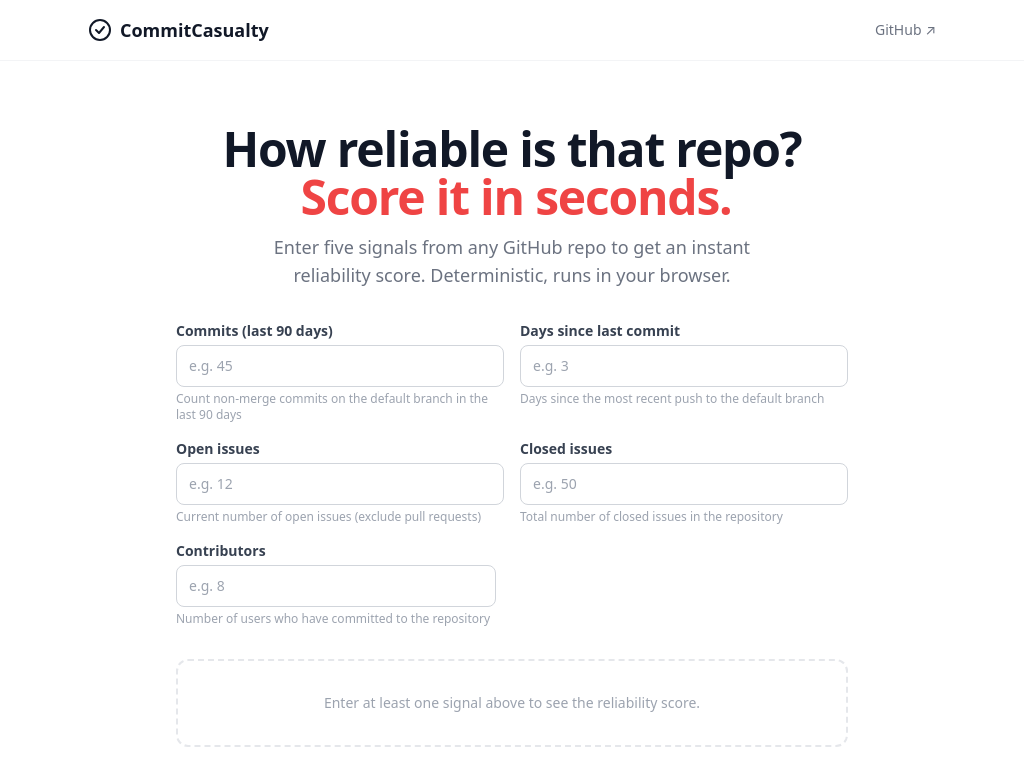
App › computes and displays score when signals are entered
Type "45" into the number field labelled "Commits (last 90 days)". click: (340, 366)
box: left=176, top=345, right=504, bottom=387
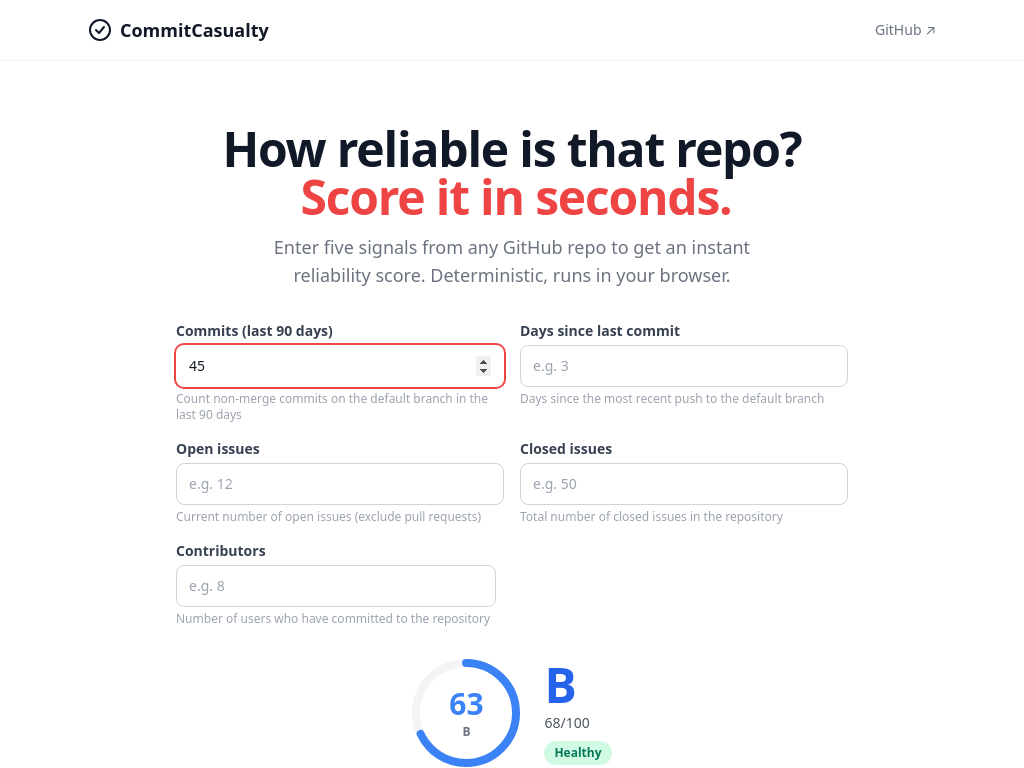
Check: the text named "reliability grade:" is shown, box left=544, top=661, right=577, bottom=709
